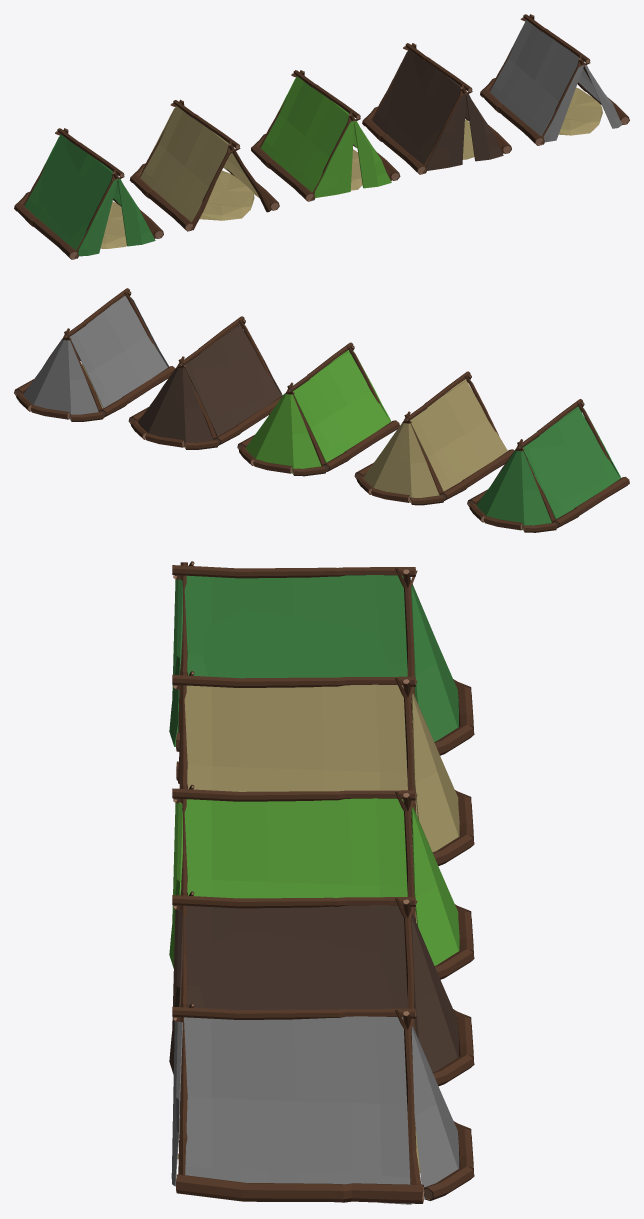
The model's file is LowPolyTentsV1.fbx.
3 renders of one model, top to bottom at view 1: azimuth 30°, elevation 25°; view 2: azimuth 150°, elevation 25°; view 3: azimuth 270°, elevation 25°, orthographic. The views are drawn at different scales.
Parts seen in each view (by area): view 1: LPTentV1.1, LPTentV1.3, LPTentV1.4, LPTentV1.5, LPTentV1.2; view 2: LPTentV1.1, LPTentV1.5, LPTentV1.3, LPTentV1.2, LPTentV1.4; view 3: LPTentV1.5, LPTentV1.4, LPTentV1.2, LPTentV1.3, LPTentV1.1.
Boxes of the visible parts, bbox=[...] form: LPTentV1.1: bbox=[251, 70, 400, 201]; LPTentV1.3: bbox=[14, 128, 163, 259]; LPTentV1.4: bbox=[362, 43, 511, 174]; LPTentV1.5: bbox=[480, 14, 629, 145]; LPTentV1.2: bbox=[129, 99, 279, 231]; LPTentV1.1: bbox=[237, 342, 399, 476]; LPTentV1.5: bbox=[14, 288, 175, 421]; LPTentV1.3: bbox=[467, 399, 629, 532]; LPTentV1.2: bbox=[354, 371, 514, 505]; LPTentV1.4: bbox=[128, 316, 282, 449]; LPTentV1.5: bbox=[171, 1003, 474, 1204]; LPTentV1.4: bbox=[169, 891, 474, 1086]; LPTentV1.2: bbox=[172, 671, 474, 865]; LPTentV1.3: bbox=[169, 561, 474, 755]; LPTentV1.1: bbox=[169, 784, 474, 979].
Size of the model in its own units: 3439 by 463 by 819.
